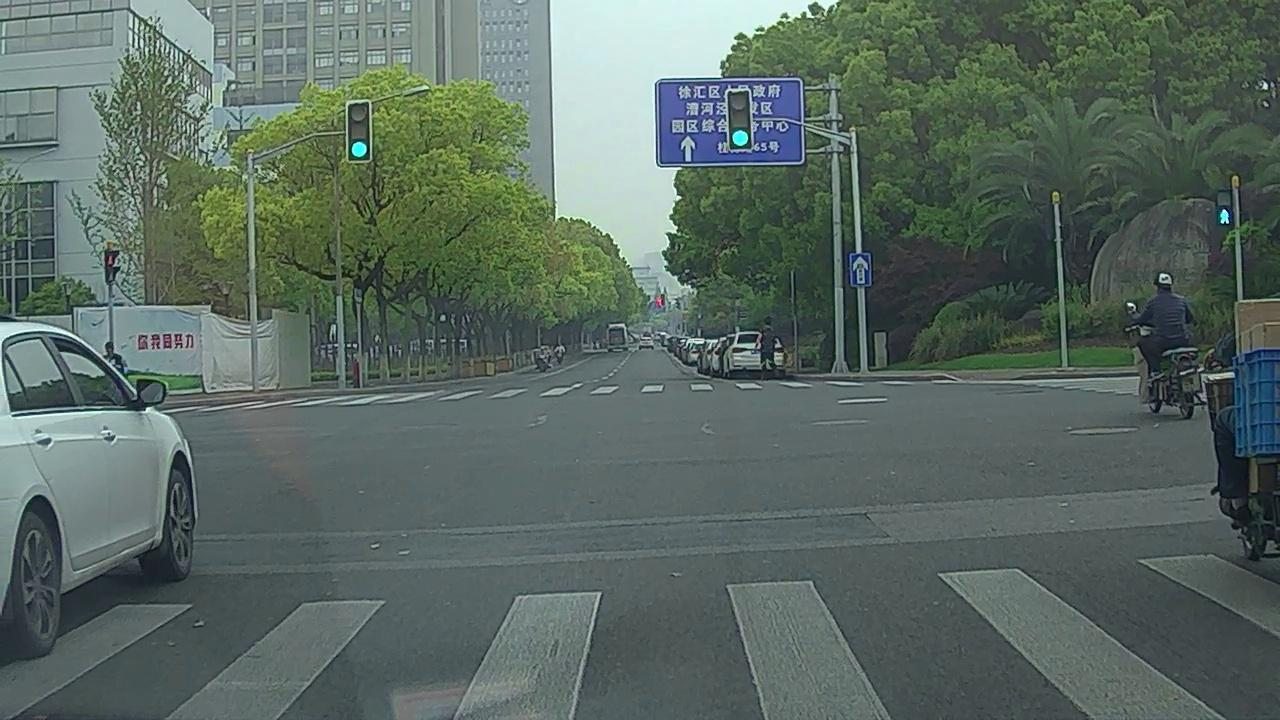traffic_light: (728, 90, 751, 149), (350, 103, 371, 160)
